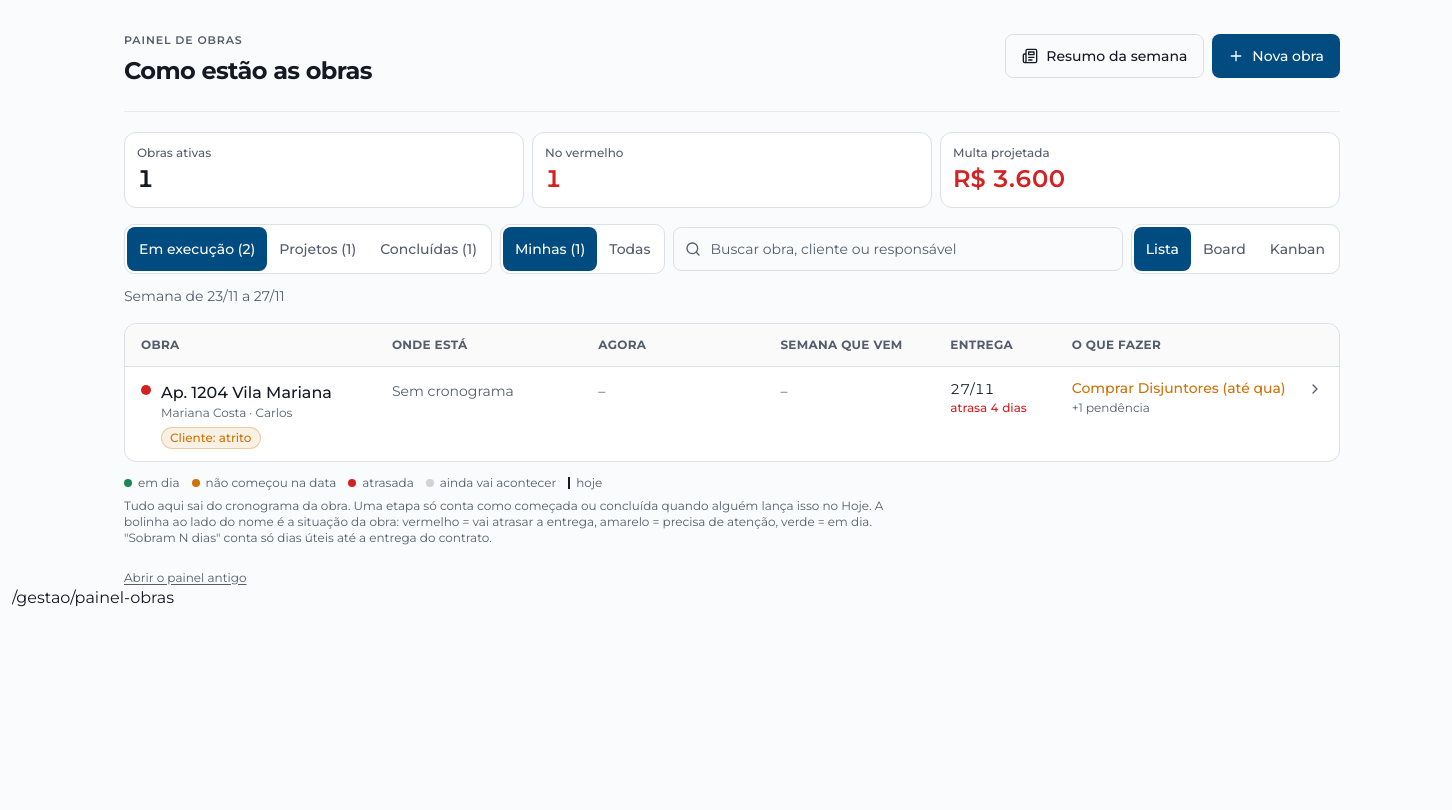
Painel de Obras reformulado › o que todos veem › abre em 'Minhas' quando sou responsável e permite ver todas
Expected: the text "Studio Pinheiros" is not shown
Click the radio button labelled "Todas" at (630, 248), box top-left (597, 226), bottom-right (662, 270)
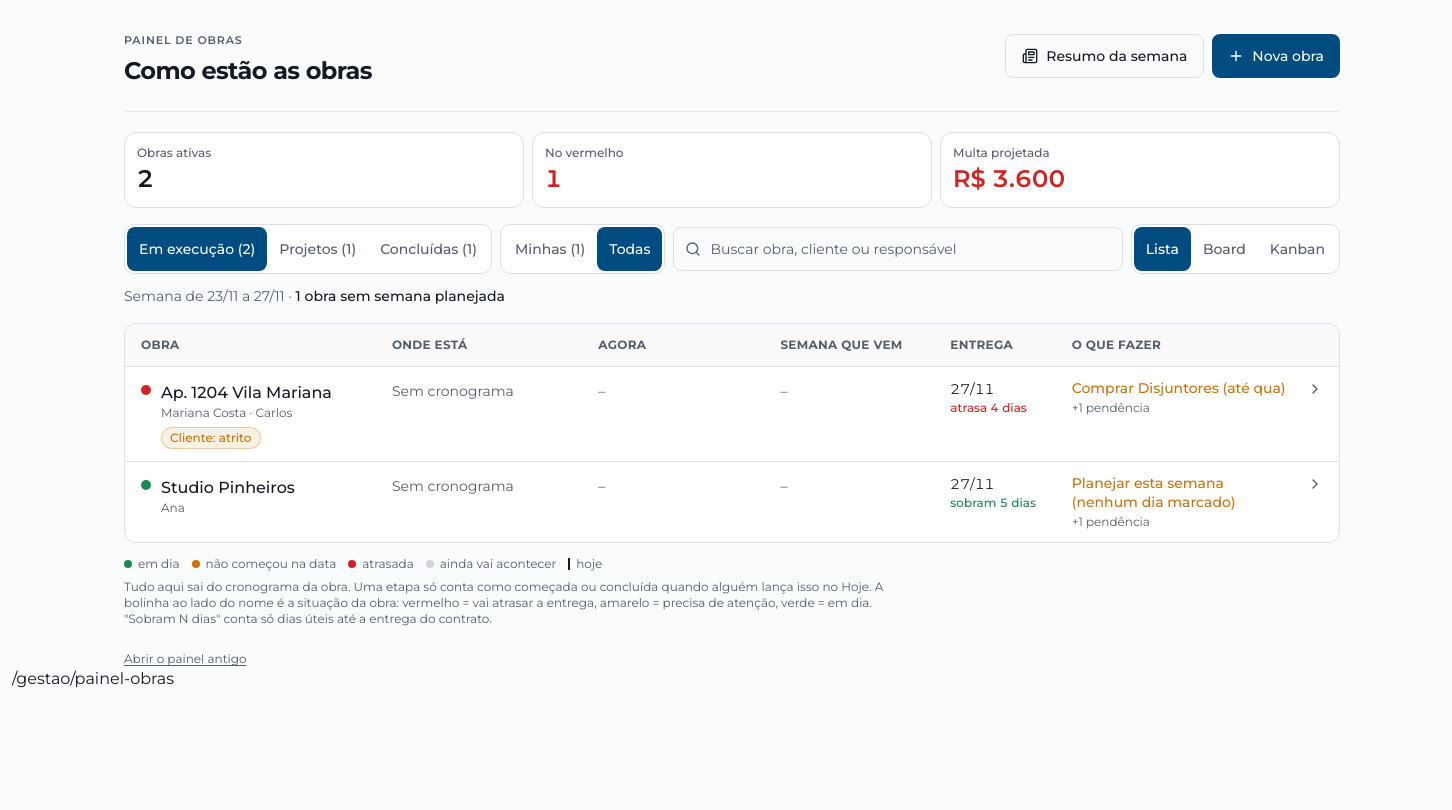
Now the text "Studio Pinheiros" is shown, box top-left (161, 478), bottom-right (295, 496)
